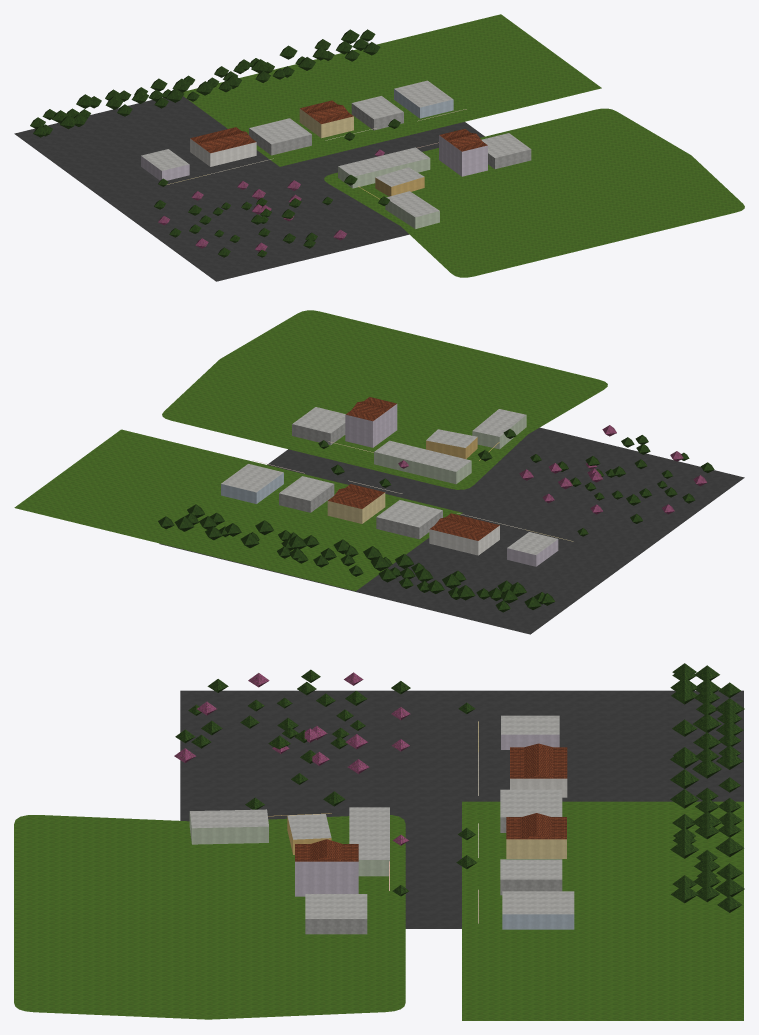
The model's file is cidade_S03_07_lod.gltf.
3 renders of one model, top to bottom at view 1: azimuth 30°, elevation 25°; view 2: azimuth 150°, elevation 25°; view 3: azimuth 270°, elevation 25°, orthographic. The views are drawn at different scales.
Visible parts, largest first — view 1: S03_07_Chao_LOD2, S03_07_Edificios_LOD1, S03_07_Vegetacao_LOD2, S03_07_Silhueta_LOD2; view 2: S03_07_Chao_LOD2, S03_07_Edificios_LOD1, S03_07_Vegetacao_LOD2, S03_07_Silhueta_LOD2; view 3: S03_07_Chao_LOD2, S03_07_Edificios_LOD1, S03_07_Vegetacao_LOD2, S03_07_Silhueta_LOD2.
Boxes of the visible parts, x1,y1,x2,y2 form: S03_07_Chao_LOD2: (14,14,744,281); S03_07_Edificios_LOD1: (141,80,531,228); S03_07_Vegetacao_LOD2: (30,29,455,257); S03_07_Silhueta_LOD2: (190,100,487,176); S03_07_Chao_LOD2: (14,310,744,634); S03_07_Edificios_LOD1: (221,401,573,566); S03_07_Vegetacao_LOD2: (158,425,714,612); S03_07_Silhueta_LOD2: (327,397,499,554); S03_07_Chao_LOD2: (14,690,743,1020); S03_07_Edificios_LOD1: (189,715,574,934); S03_07_Vegetacao_LOD2: (174,663,744,912); S03_07_Silhueta_LOD2: (295,747,567,896).
Bounding box in the file's own units: 140 × 9.1 × 130.
Materials: 15 (15 with a texture image).
